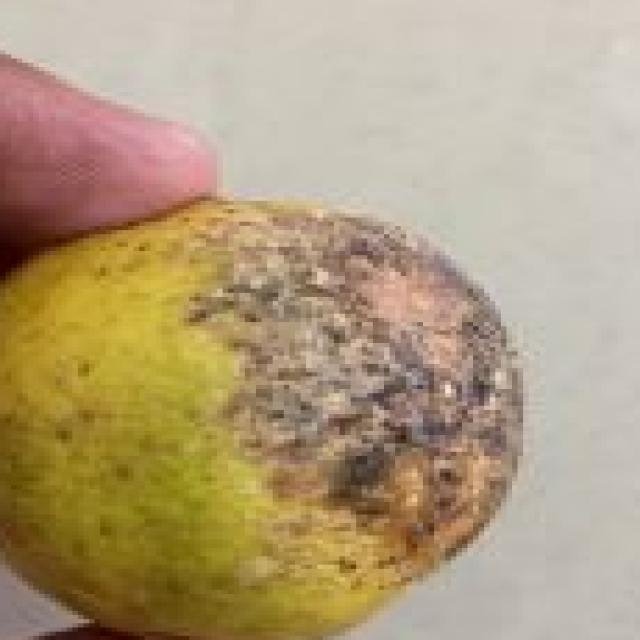Bad_Lime-0-1-day: (0, 197, 529, 640)
